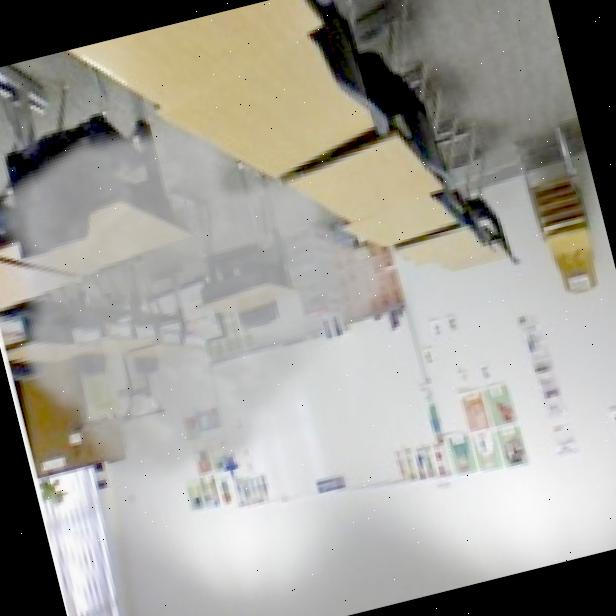smoke: (0, 68, 437, 517)
